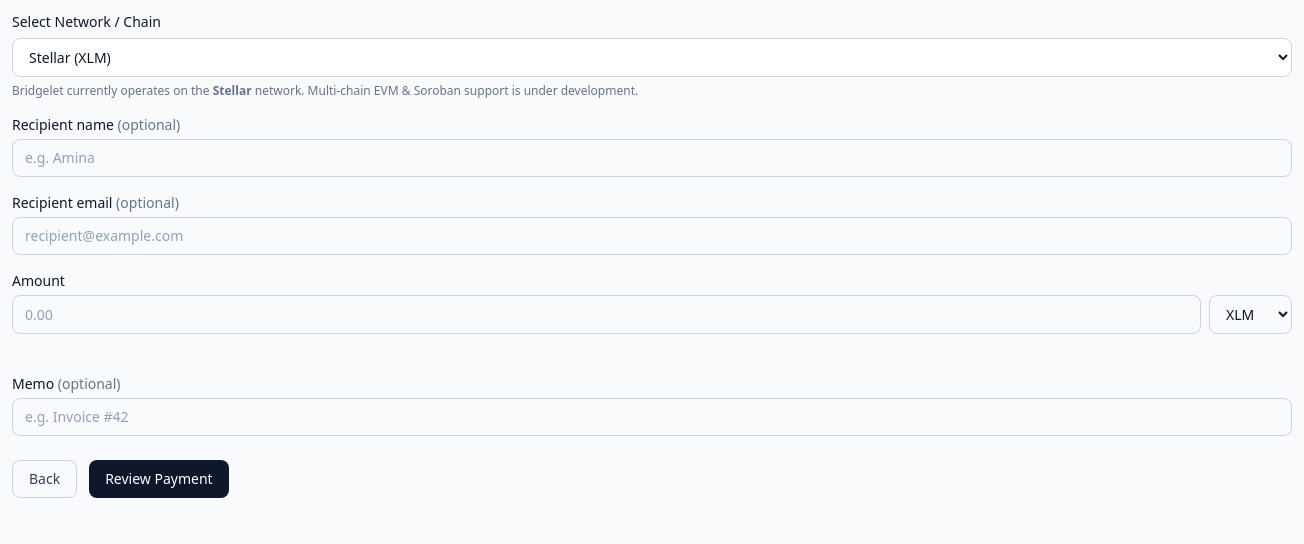
DetailsStep › clears the amount error in real time once corrected
This screenshot has width=1304, height=544.
Click the button "Review Payment" at x=159, y=479, box left=89, top=460, right=229, bottom=498
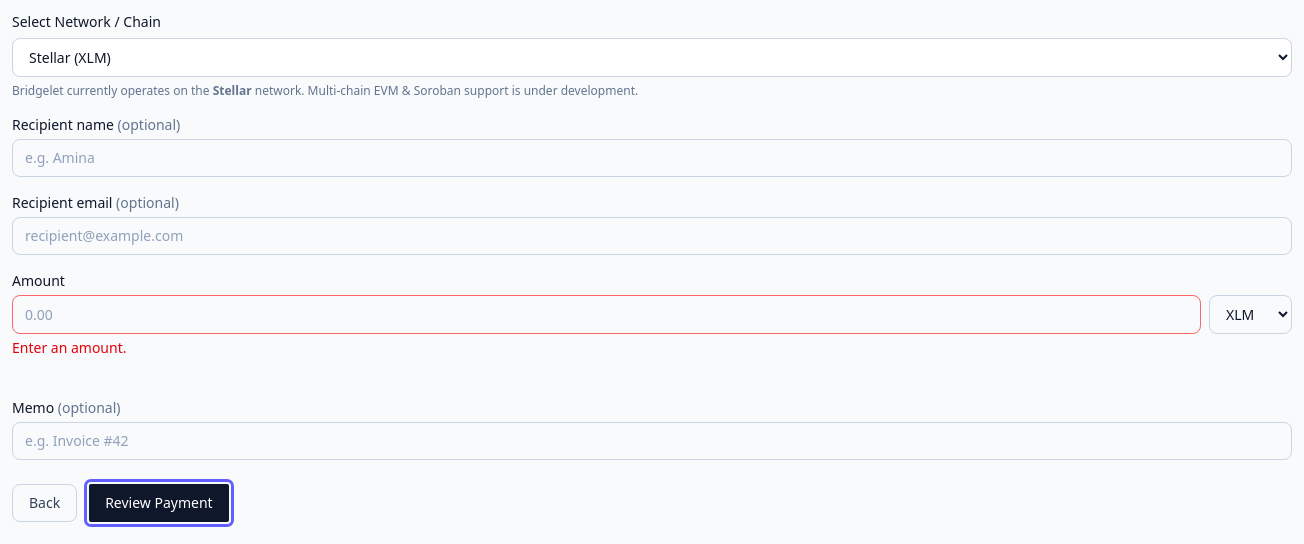
Check: the message shows "Enter an amount", box left=12, top=338, right=126, bottom=357
Type "25" into the number field labelled "Amount" at x=606, y=314, box left=12, top=295, right=1201, bottom=334
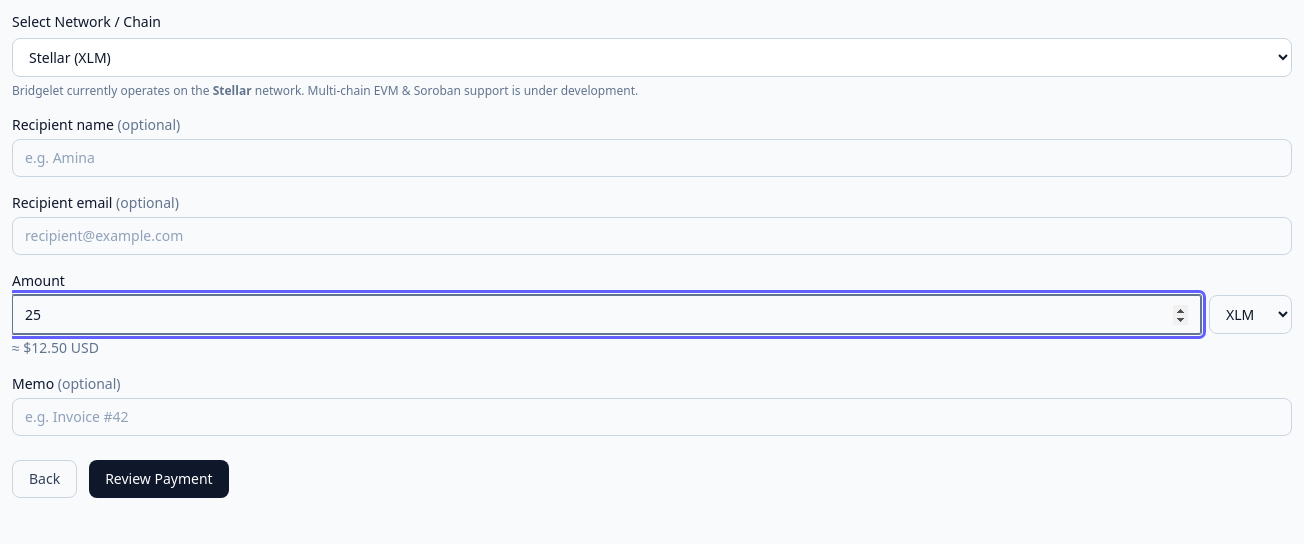
Check: the message "Enter an amount." is gone
